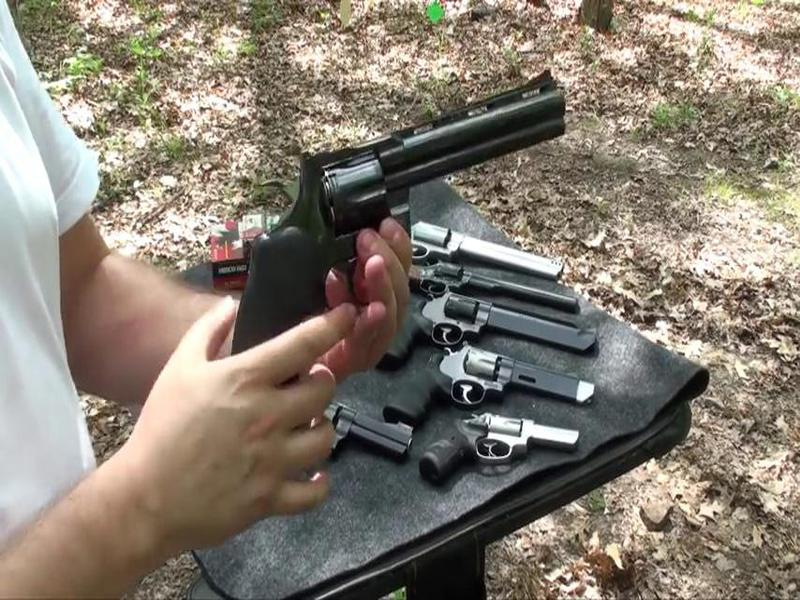Revolver: (250, 75, 569, 321)
